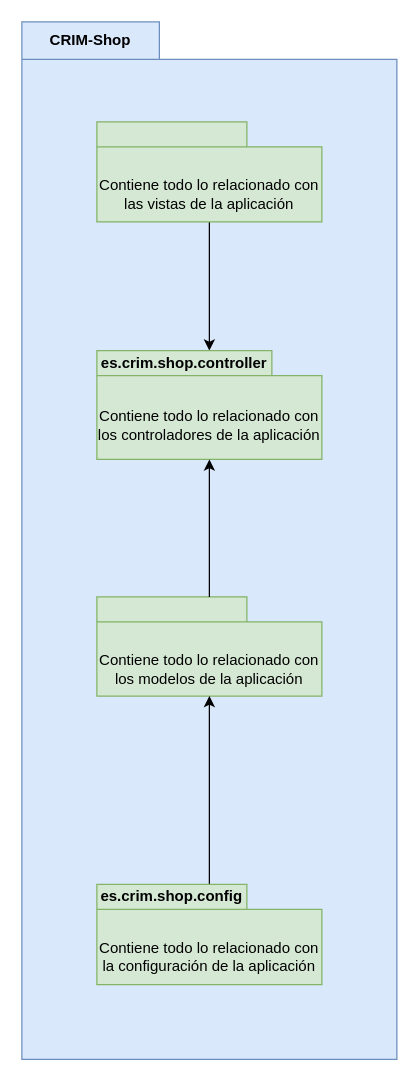
Some shapes in this 419 by 1081 pixel diagram are drawn without their labels. Here are the shapes that lost their labels. From the top down, the centre of each, then its label:
pixel 209 171: es.crim.shop.view
pixel 209 646: es.crim.shop.model
